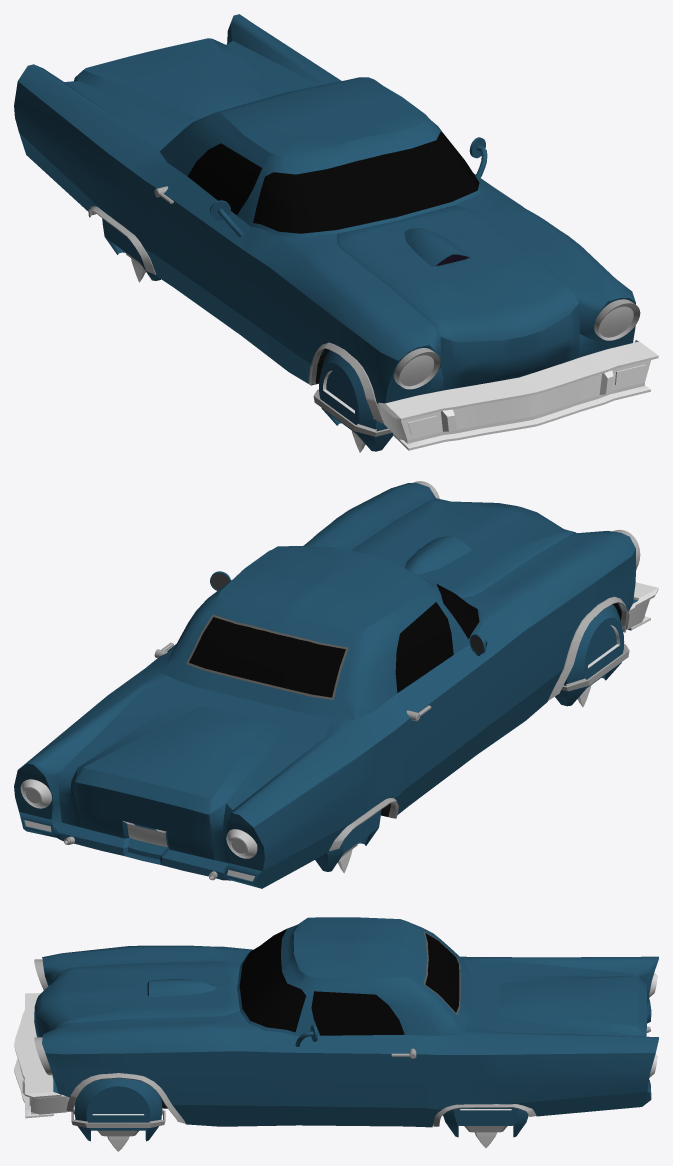
Rendered from CAR 2.fbx.
3 renders of one model, top to bottom at view 1: azimuth 30°, elevation 25°; view 2: azimuth 150°, elevation 25°; view 3: azimuth 270°, elevation 25°, orthographic. The views are drawn at different scales.
Visible parts, largest first — view 1: car, boster Right f, boster Right BACK.; view 2: car, boster Right f, boster Right BACK.; view 3: car, boster left f, boster left BACK..
Part boxes in pixels (x1=…): car: x1=14, y1=14, x2=658, y2=450; boster Right f: x1=313, y1=350, x2=392, y2=451; boster Right BACK.: x1=102, y1=218, x2=160, y2=280; car: x1=14, y1=481, x2=658, y2=888; boster Right f: x1=555, y1=604, x2=629, y2=706; boster Right BACK.: x1=315, y1=810, x2=381, y2=871; car: x1=14, y1=917, x2=658, y2=1127; boster left f: x1=71, y1=1078, x2=165, y2=1141; boster left BACK.: x1=443, y1=1107, x2=528, y2=1137.
Bounding box in the file's own units: 124 × 89.22 × 315.
